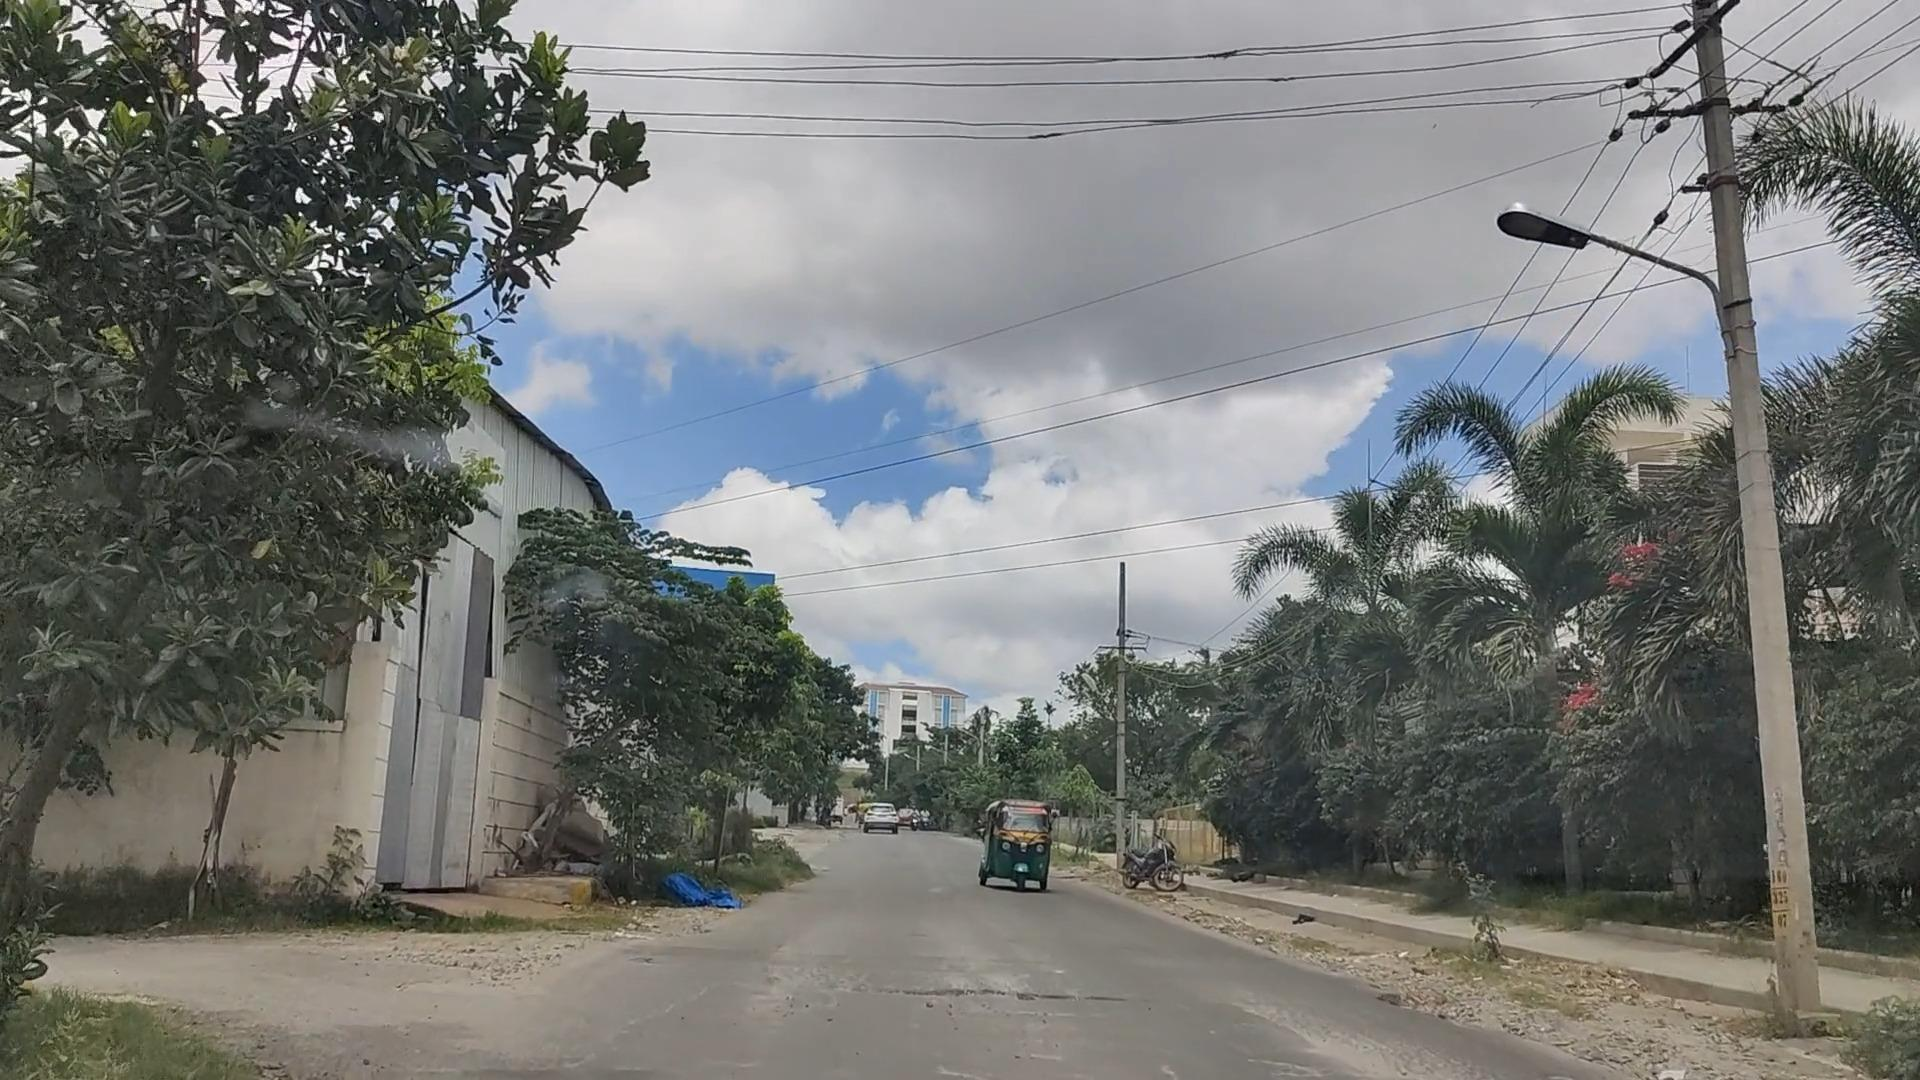RoadDamages: (857, 945, 1141, 1042)
